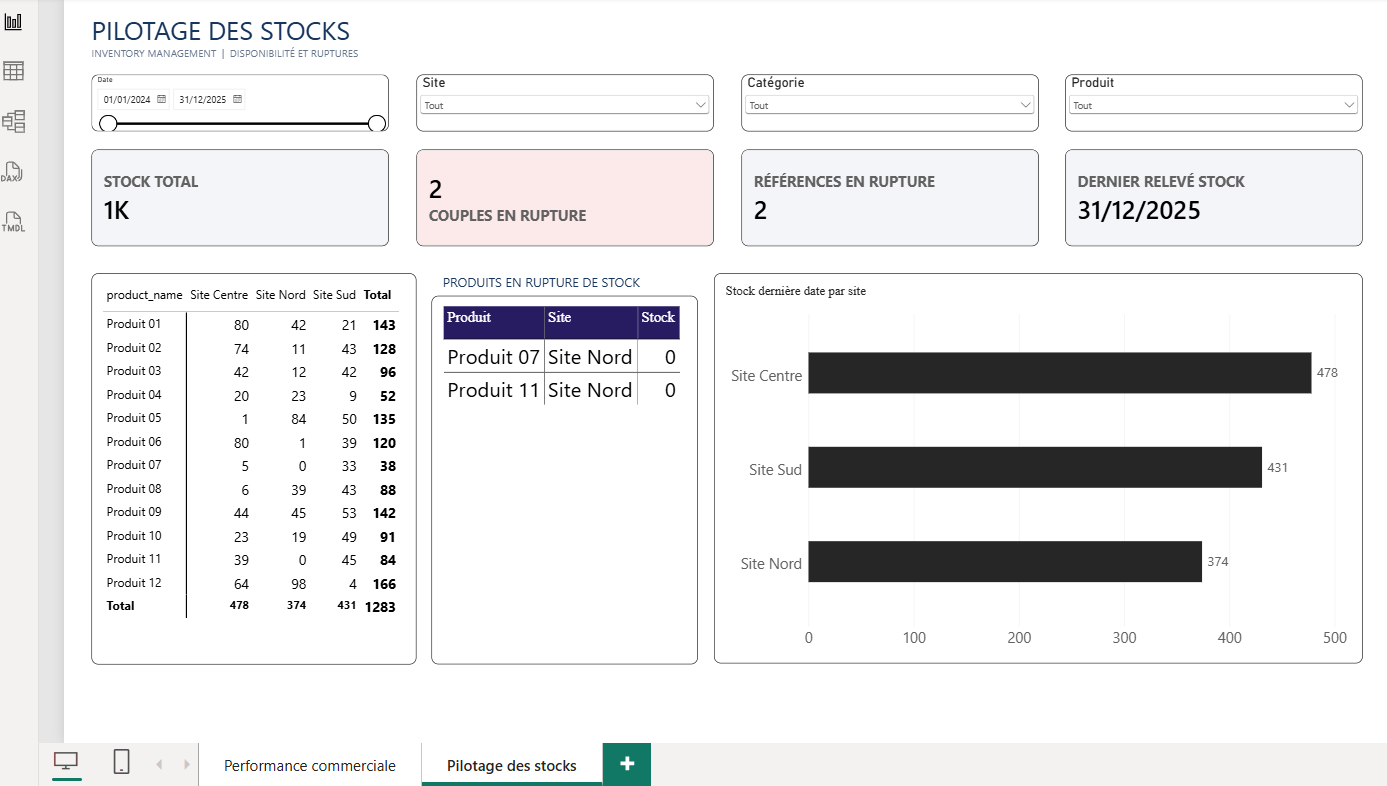

The page's visual inventory and layout, read from the dashboard file:
{"tool":"powerbi","page":{"name":"Pilotage des stocks","canvas":[1920,1080],"ordinal":1},"visuals":[{"type":"slicer","fields":{"Values":["dim_date.date"]},"box":[40,112,430,82],"z":0},{"type":"slicer","fields":{"Values":["dim_site.site_name"]},"box":[510,112,430,82],"z":1000},{"type":"slicer","fields":{"Values":["dim_product.category"]},"box":[980,112,430,82],"z":2000},{"type":"slicer","fields":{"Values":["dim_product.product_name"]},"box":[1450,112,430,82],"z":3000},{"type":"cardVisual","fields":{"Data":["_Measures.Stock dernière date"]},"box":[40,220,430,140],"z":4000},{"type":"cardVisual","title":"COUPLES EN RUPTURE","fields":{"Data":["_Measures.Couples en rupture"]},"box":[510,220,430,140],"z":5000},{"type":"cardVisual","fields":{"Data":["_Measures.Références en rupture"]},"box":[980,220,430,140],"z":6000},{"type":"cardVisual","fields":{"Data":["_Measures.Date dernier relevé stock"]},"box":[1450,220,430,140],"z":7000},{"type":"pivotTable","fields":{"Columns":["dim_site.site_name"],"Rows":["dim_product.product_name"],"Values":["_Measures.Stock dernière date"]},"box":[39.8,399.9,470.5,566.4],"z":8000},{"type":"textbox","box":[548.3,399.9,369.2,32.6],"z":9000},{"type":"clusteredBarChart","title":"Stock dernière date par site","fields":{"Category":["dim_site.site_name"],"Y":["_Measures.Stock dernière date"]},"box":[941,399.9,939.2,564.6],"z":10000},{"type":"tableEx","fields":{"Values":["dim_product.product_name","dim_site.site_name","_Measures.Stock rupture (affichage)"]},"box":[532,432.5,385.5,533.8],"z":11000},{"type":"textbox","box":[40,22,850,78],"z":12000}]}

Visuals, with their boxes on the page's 1920x1080 design canvas (x1, y1, x2, y2). These are canvas units, not pixel positions in the 1387x786 screenshot, which may show the page scaled, cropped or inside an application window:
slicer - dim_date.date: locate(40, 112, 470, 194)
slicer - dim_site.site_name: locate(510, 112, 940, 194)
slicer - dim_product.category: locate(980, 112, 1410, 194)
slicer - dim_product.product_name: locate(1450, 112, 1880, 194)
cardVisual - _Measures.Stock dernière date: locate(40, 220, 470, 360)
"COUPLES EN RUPTURE" cardVisual: locate(510, 220, 940, 360)
cardVisual - _Measures.Références en rupture: locate(980, 220, 1410, 360)
cardVisual - _Measures.Date dernier relevé stock: locate(1450, 220, 1880, 360)
pivotTable - dim_site.site_name x dim_product.product_name: locate(40, 400, 510, 966)
textbox: locate(548, 400, 918, 432)
"Stock dernière date par site" clusteredBarChart: locate(941, 400, 1880, 964)
tableEx - dim_product.product_name x dim_site.site_name: locate(532, 432, 918, 966)
textbox: locate(40, 22, 890, 100)
